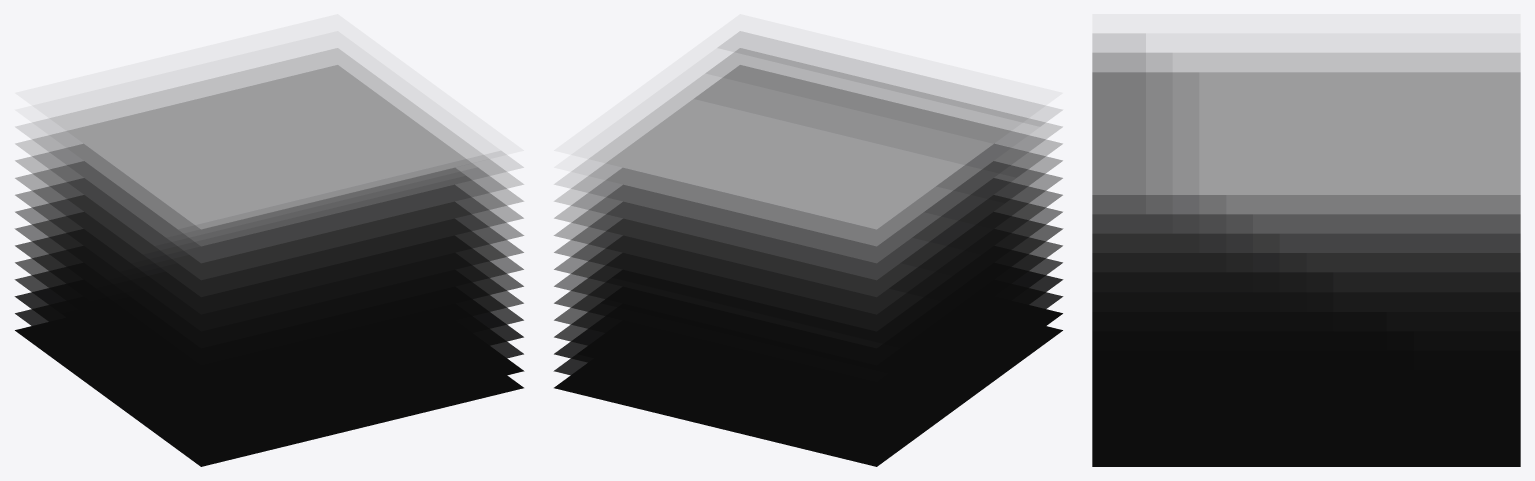
The model's file is void.glb.
3 renders of one model, left to right at view 1: azimuth 30°, elevation 25°; view 2: azimuth 150°, elevation 25°; view 3: azimuth 270°, elevation 25°, orthographic. The views are drawn at different scales.
Visible parts, largest first — view 1: Plane; view 2: Plane; view 3: Plane.
Boxes of the visible parts, bbox=[...] form: Plane: bbox=[14, 48, 524, 466]; Plane: bbox=[553, 31, 1063, 466]; Plane: bbox=[1092, 34, 1520, 466].
Size of the model in its own units: 2 by 1.4 by 2.
1 material, 1 textured.
